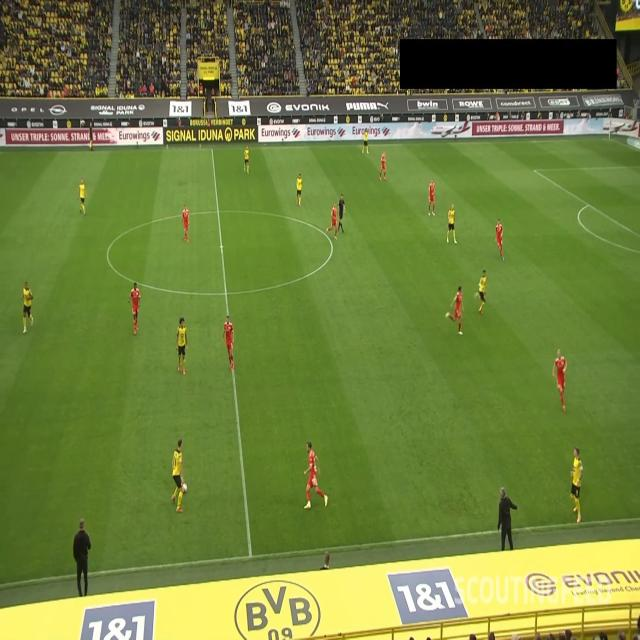ball: (181, 481, 188, 495)
